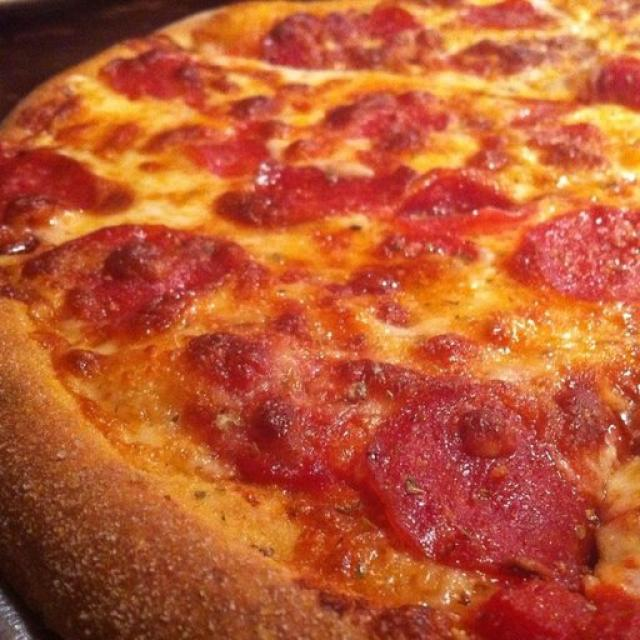Pepperoni: (360, 387, 600, 571), (35, 232, 232, 336), (507, 200, 640, 317), (260, 164, 433, 220), (401, 170, 541, 239), (5, 151, 123, 209), (184, 114, 278, 183), (344, 84, 449, 144), (134, 43, 221, 111), (508, 109, 598, 166), (585, 53, 640, 107), (473, 0, 538, 38), (368, 0, 427, 41)
Pizza: (0, 0, 640, 640)
